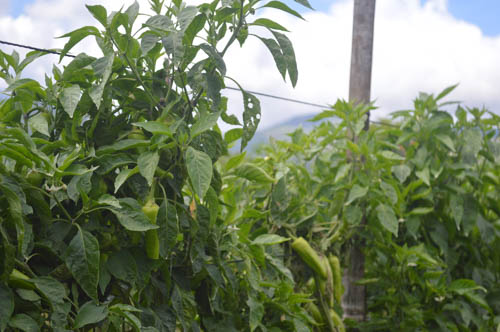ChiliPepper: (289, 241, 326, 278), (140, 207, 160, 260)
